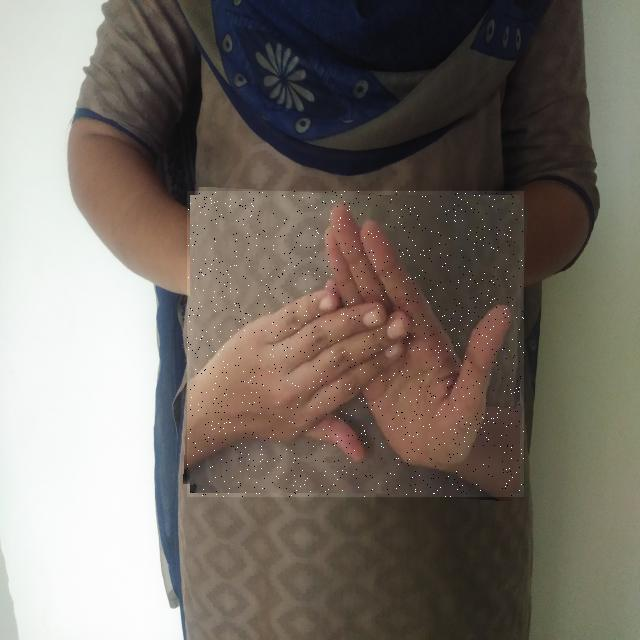H: (187, 191, 524, 497)
